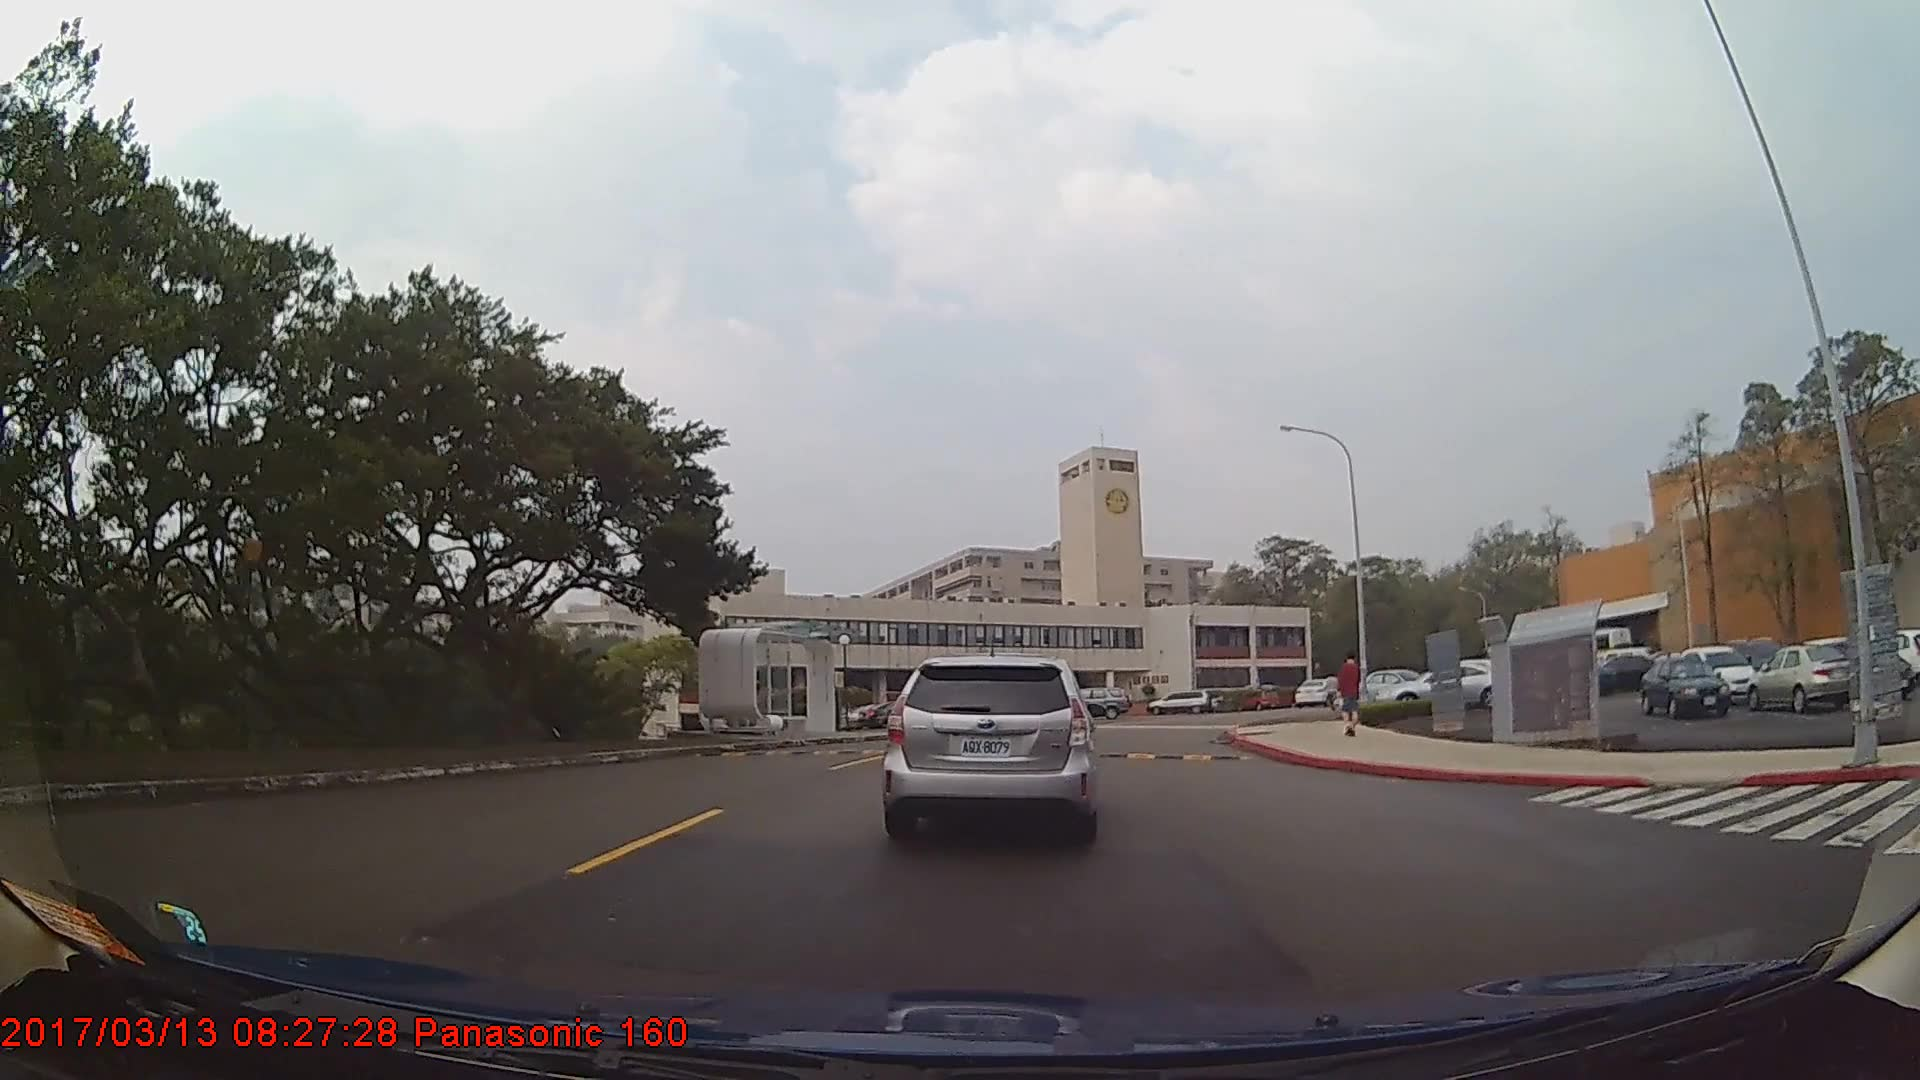pedestrian: (1334, 650, 1365, 743)
vehicle: (883, 648, 1096, 844), (1745, 646, 1856, 709), (1372, 662, 1510, 707), (1640, 658, 1731, 719), (1673, 644, 1759, 701), (1062, 681, 1132, 716), (1145, 685, 1211, 714), (1295, 674, 1336, 705)
